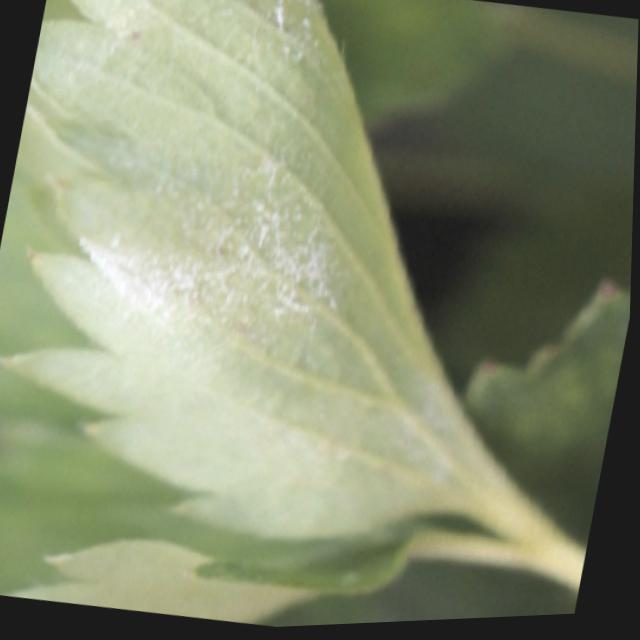Powdery Mildew Leaf: (0, 0, 521, 541)
